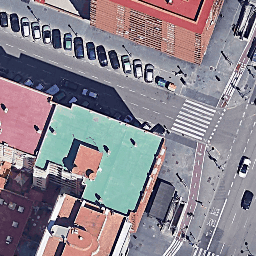car: (96, 45, 109, 67), (238, 156, 251, 178), (108, 51, 121, 71), (240, 190, 253, 209), (74, 37, 85, 59), (59, 78, 78, 90), (121, 55, 132, 75), (133, 58, 143, 79), (10, 12, 20, 32), (52, 29, 62, 48), (21, 16, 30, 37), (145, 63, 154, 83), (85, 42, 95, 60), (42, 24, 51, 44), (82, 88, 98, 99), (31, 22, 41, 39), (64, 32, 72, 50), (54, 91, 66, 101), (67, 96, 79, 105), (1, 12, 8, 27), (24, 77, 33, 87), (123, 116, 134, 123), (12, 74, 21, 82), (141, 123, 153, 129), (113, 113, 123, 120), (80, 101, 90, 108), (37, 82, 44, 89)
